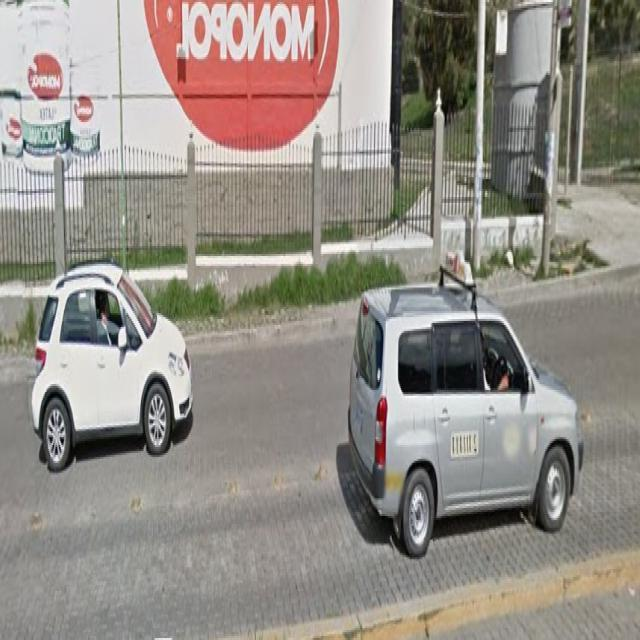car: (346, 276, 572, 558), (29, 264, 186, 490)
